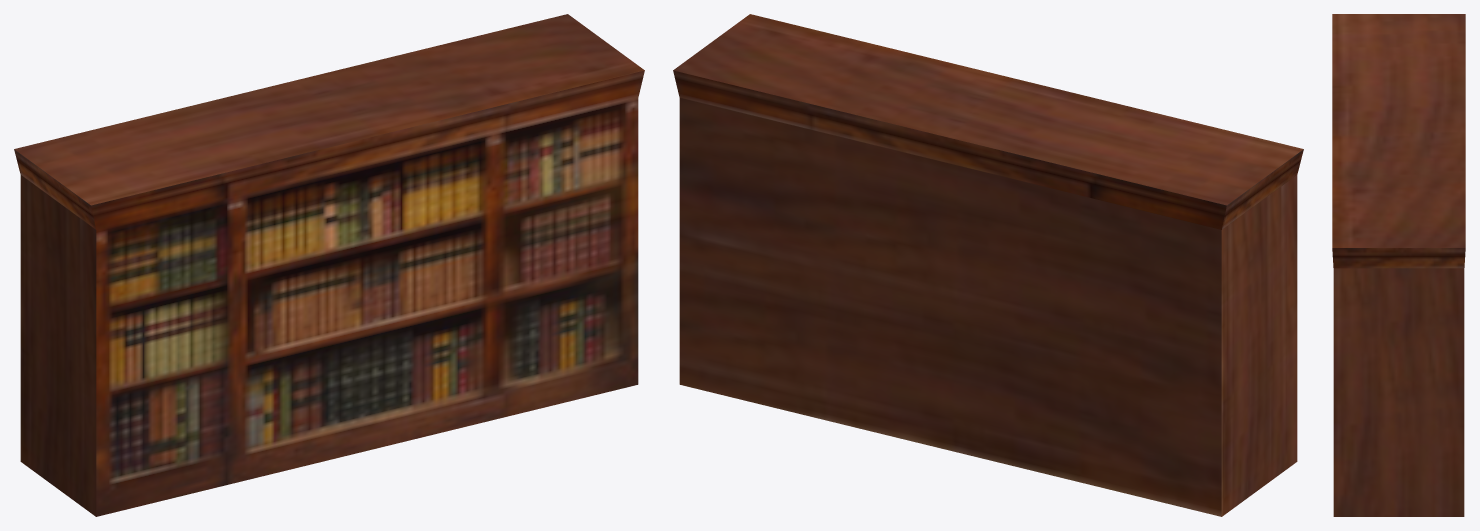
File: estante_baixa.glb
3 views of the same model, side by side, from view 1: azimuth 30°, elevation 25°; view 2: azimuth 150°, elevation 25°; view 3: azimuth 270°, elevation 25° (orthographic). The views are drawn at different scales.
Visible parts, largest first — view 1: estante_baixa; view 2: estante_baixa; view 3: estante_baixa.
Part boxes in pixels (bbox=[...]): estante_baixa: bbox=[14, 14, 644, 516]; estante_baixa: bbox=[673, 14, 1303, 516]; estante_baixa: bbox=[1332, 14, 1465, 516].
Size of the model in its own units: 1.71 by 0.9263 by 0.4128.
Materials: 1 (1 with a texture image).
